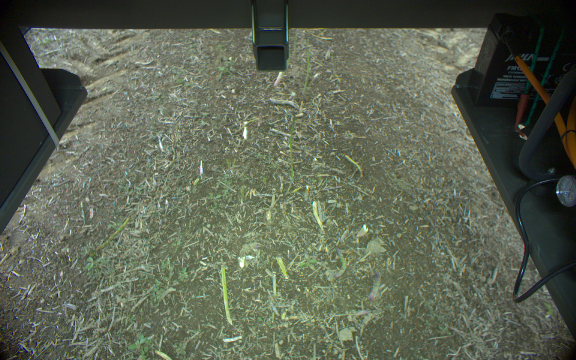aspa: (94, 215, 130, 255), (216, 264, 235, 326), (366, 271, 388, 303), (330, 247, 348, 278), (273, 256, 290, 279), (271, 71, 284, 88)
